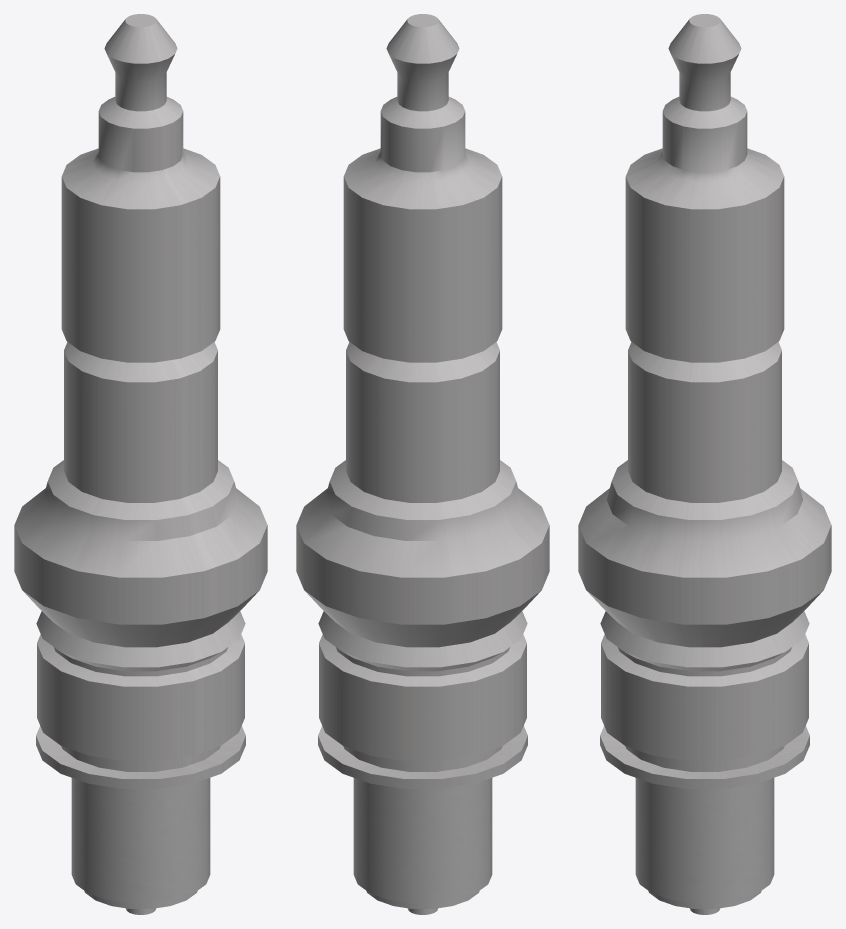
File: Sparkplug.fbx
3 views of the same model, side by side, from view 1: azimuth 30°, elevation 25°; view 2: azimuth 150°, elevation 25°; view 3: azimuth 270°, elevation 25° (orthographic).
Parts seen in each view (by area): view 1: Cylinder.065; view 2: Cylinder.065; view 3: Cylinder.065.
Part boxes in pixels (x1=…): Cylinder.065: x1=14, y1=14, x2=267, y2=914; Cylinder.065: x1=296, y1=14, x2=549, y2=914; Cylinder.065: x1=578, y1=14, x2=831, y2=914.
Bounding box in the file's own units: 45.44 × 179 × 46.14.
1 material, 1 textured.
